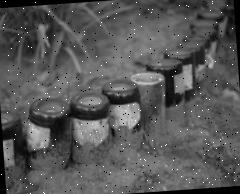glass: (0, 0, 240, 191)
